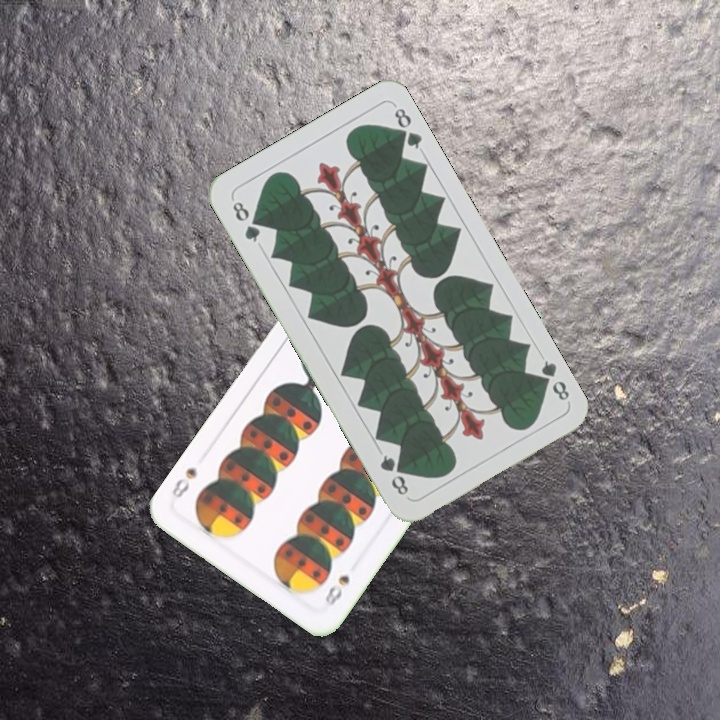G8: (533, 356, 572, 404), (228, 197, 263, 245)
S8: (321, 570, 353, 613)
